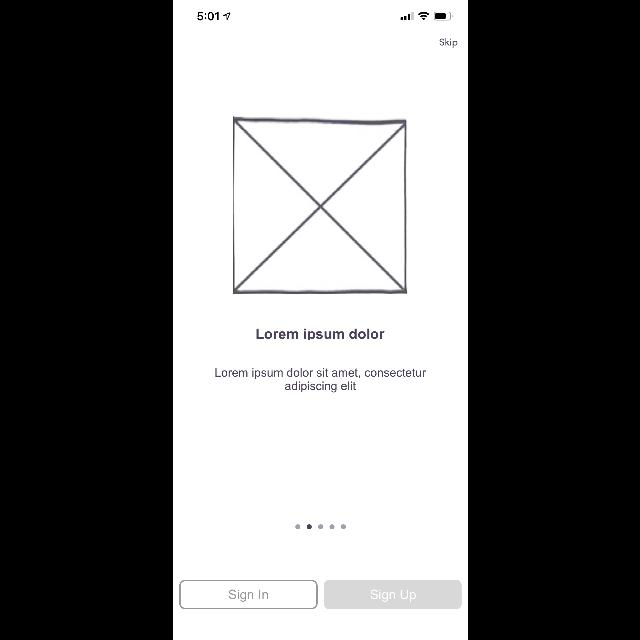image: (232, 115, 406, 295)
pageindicator: (294, 524, 346, 530)
text: (214, 368, 426, 392), (256, 328, 384, 340), (439, 38, 457, 48)
textbutton: (178, 580, 318, 610), (323, 580, 461, 610)
uppertaskbar: (196, 11, 452, 21)
